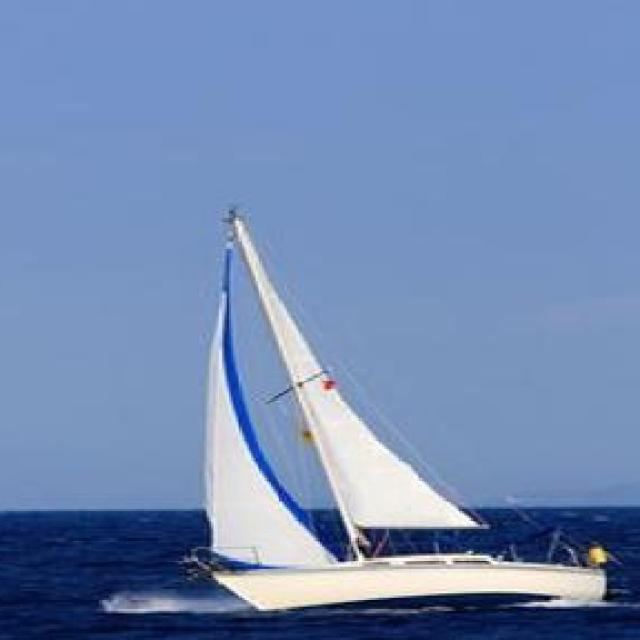sailboat: (181, 207, 611, 608)
